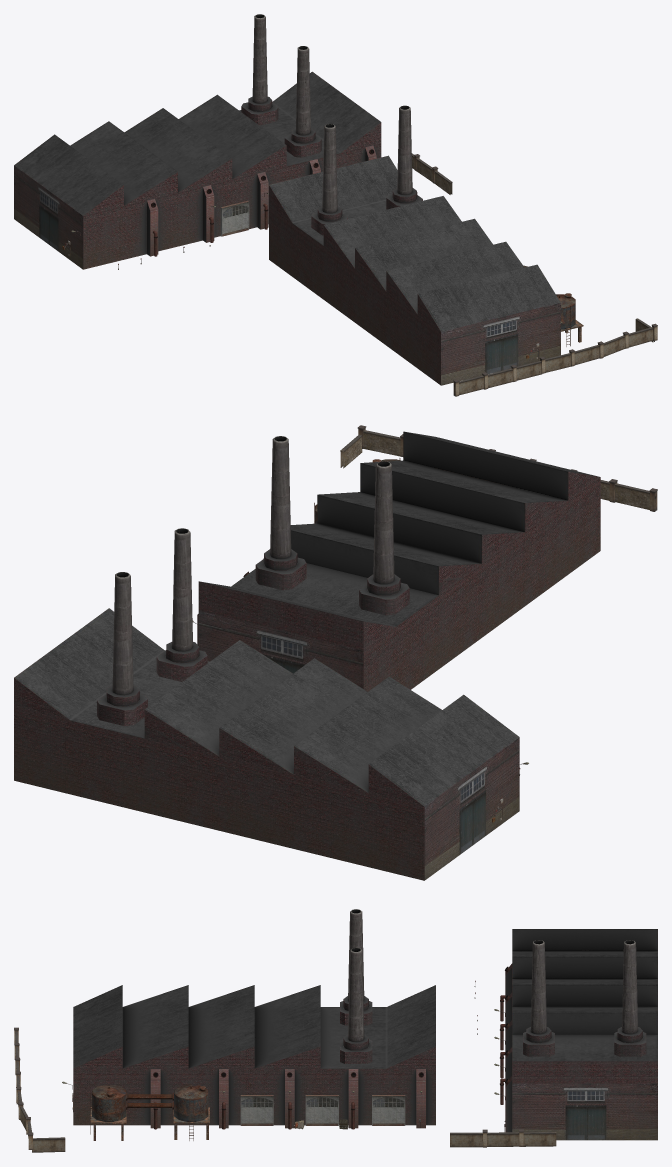
File: IndustrialShed.FBX
3 views of the same model, one above another, from view 1: azimuth 30°, elevation 25°; view 2: azimuth 150°, elevation 25°; view 3: azimuth 270°, elevation 25° (orthographic). The views are drawn at different scales.
Visible parts, largest first — view 1: IndustrialShed; view 2: IndustrialShed; view 3: IndustrialShed.
Boxes of the visible parts, bbox=[...] form: IndustrialShed: bbox=[14, 14, 657, 396]; IndustrialShed: bbox=[14, 425, 657, 880]; IndustrialShed: bbox=[14, 909, 657, 1152].
Bounding box in the file's own units: 6289 × 2644 × 9397.
Materials: 1 (1 with a texture image).
